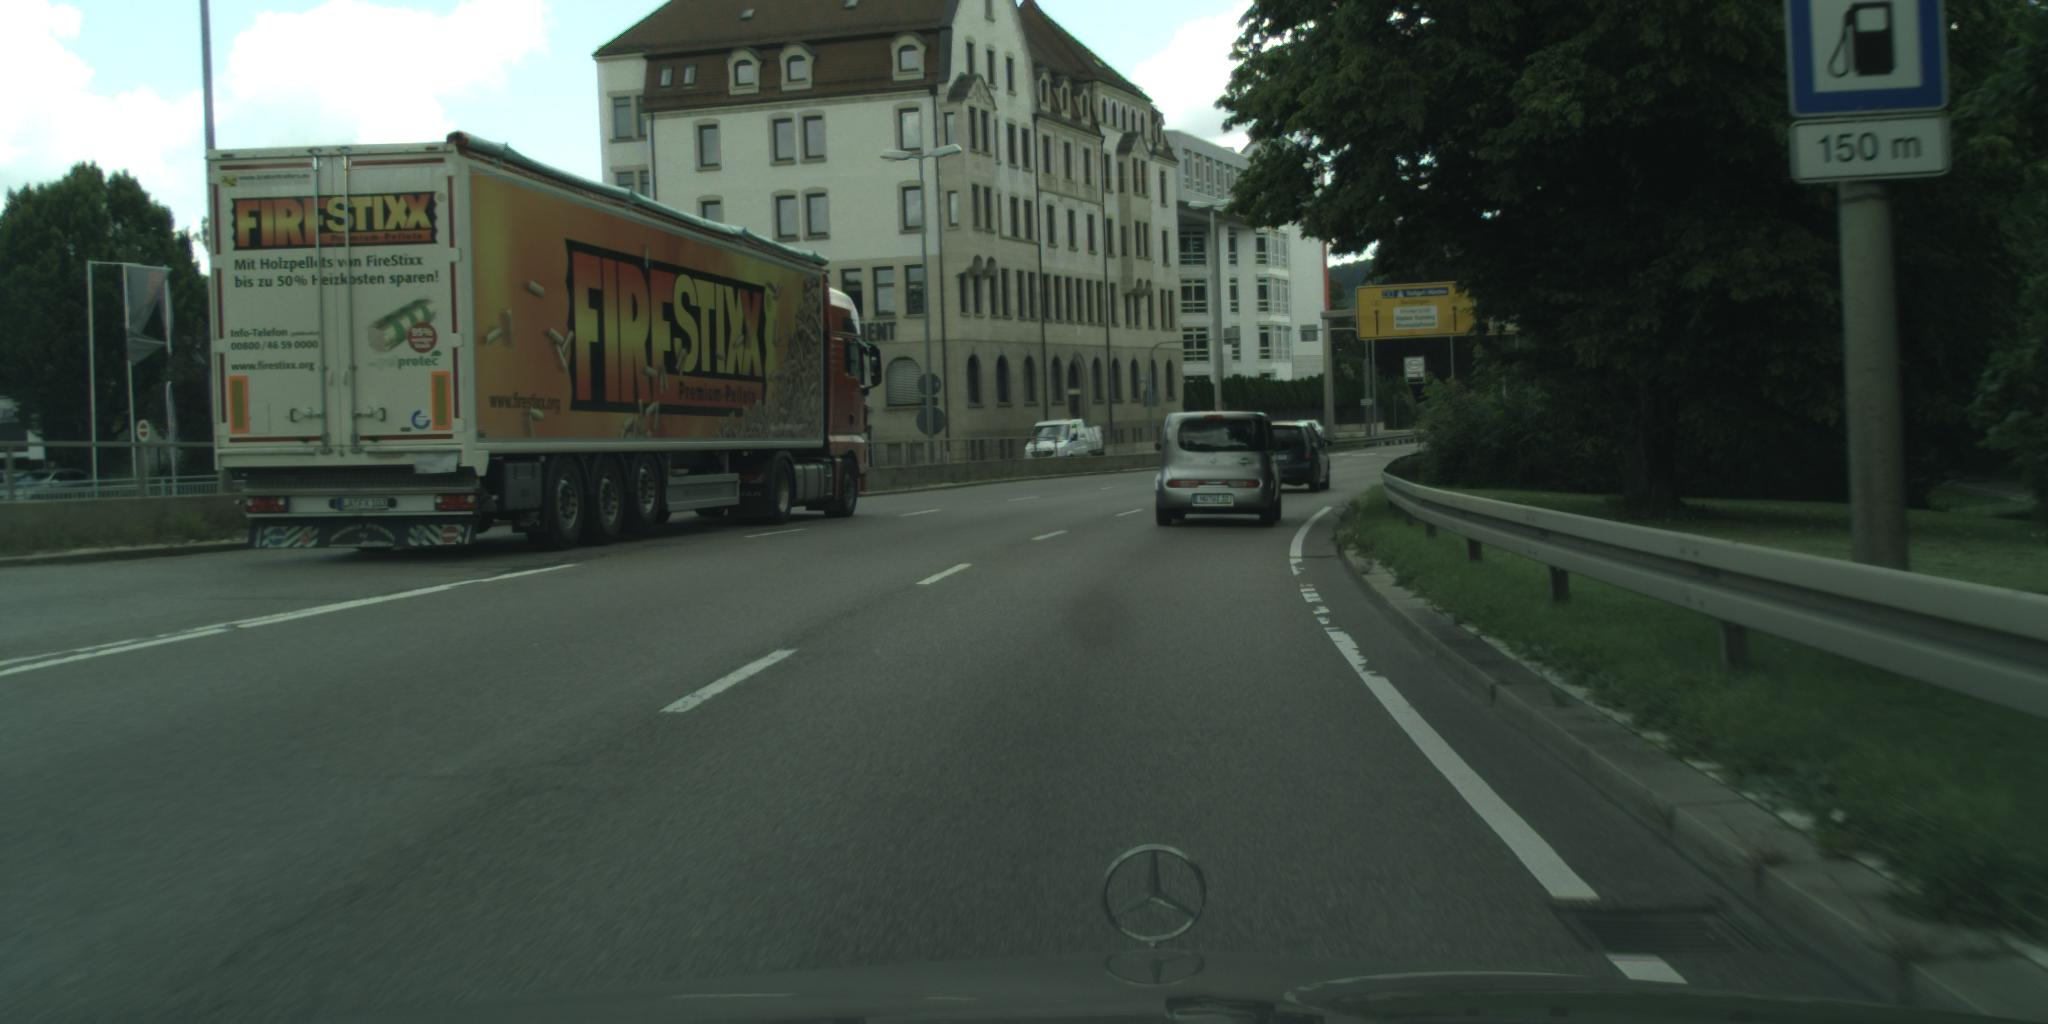car: (1155, 411, 1290, 528), (1260, 421, 1332, 498), (1289, 421, 1328, 445)
truck: (206, 131, 883, 555), (1027, 421, 1105, 461)
